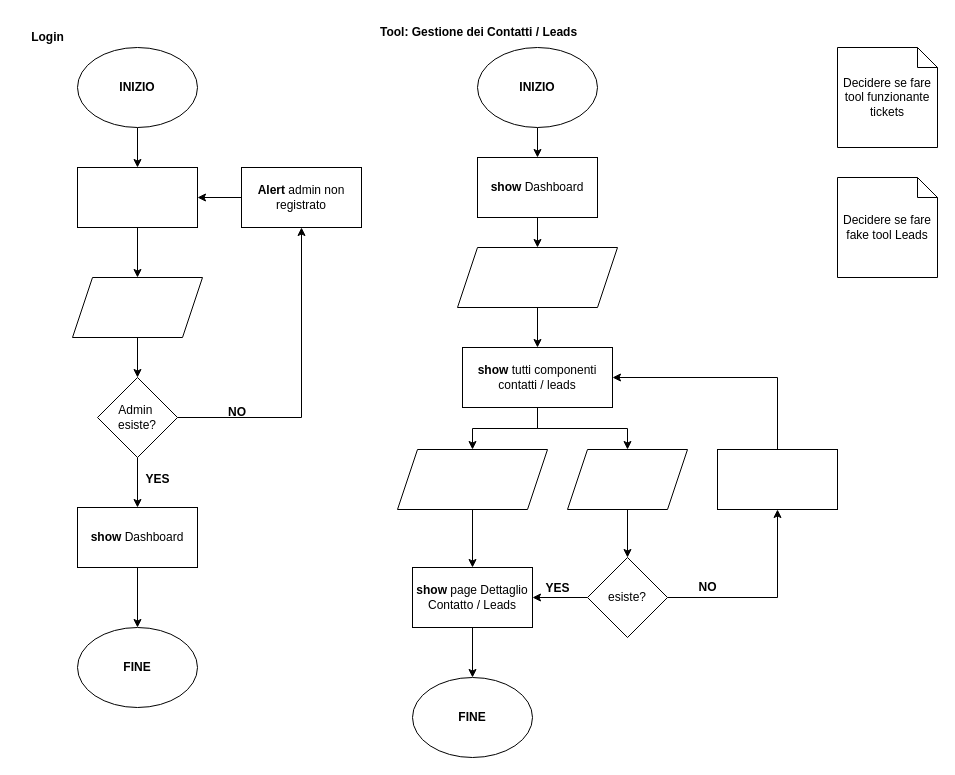
Some shapes in this 955 by 775 pixel diagram are drawn without their labels. The centre of each missing label's shape, as x and y in pixels:
Alert contatto / leads non esistente: the point at 777,479
click tag Contatti / Leads: the point at 537,277
compilo searchbar: the point at 627,479
select contatto / Leads: the point at 472,479
show Pagina Login amministratore: the point at 137,197
stdio inserisco email e password: the point at 137,307
